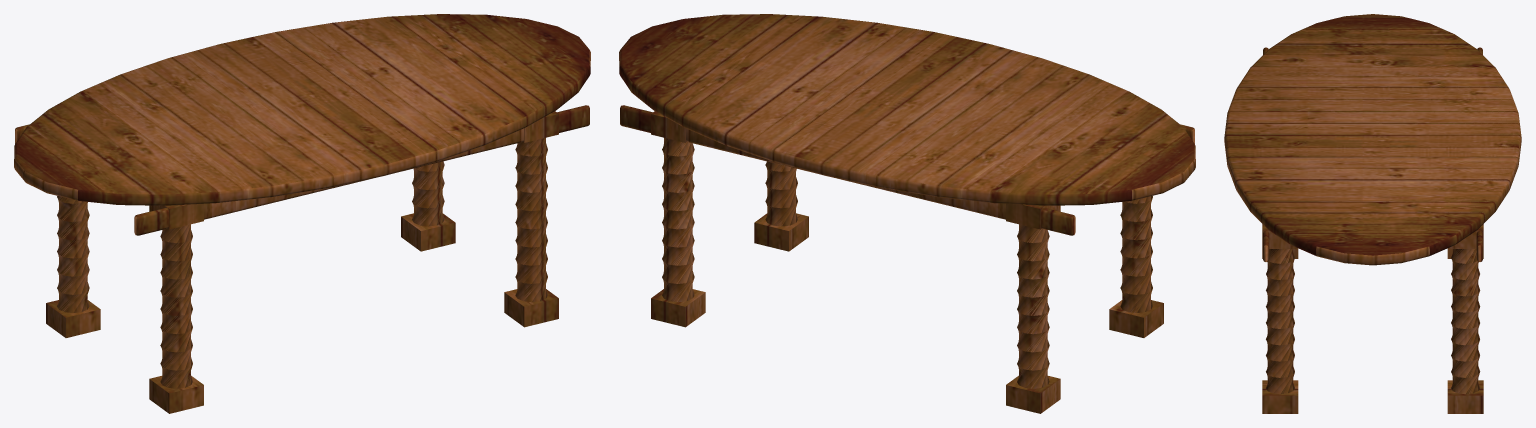
Rendered from Antique_Table_14.fbx.
The picture shows the model from 3 angles, left to right: view 1: azimuth 30°, elevation 25°; view 2: azimuth 150°, elevation 25°; view 3: azimuth 270°, elevation 25°; orthographic projection. The views are drawn at different scales.
Parts seen in each view (by area): view 1: Antique_Table; view 2: Antique_Table; view 3: Antique_Table.
Boxes of the visible parts, box(x1,y1,x2,y2) form: Antique_Table: box(14, 14, 590, 413); Antique_Table: box(619, 14, 1195, 413); Antique_Table: box(1224, 14, 1521, 413).
Size of the model in its own units: 2.24 by 0.84 by 1.16.
Materials: 1 (1 with a texture image).
